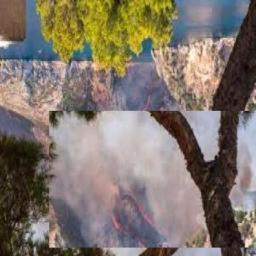Heavy smoke: (50, 110, 201, 247)
